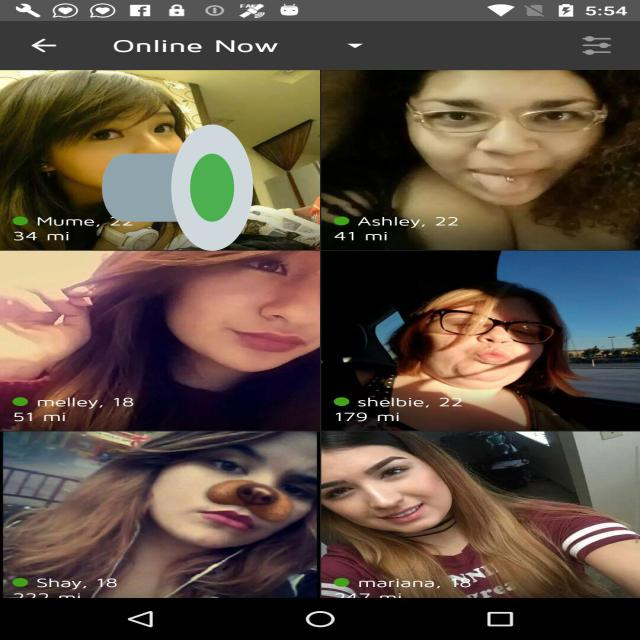social proof: (102, 71, 253, 304)
